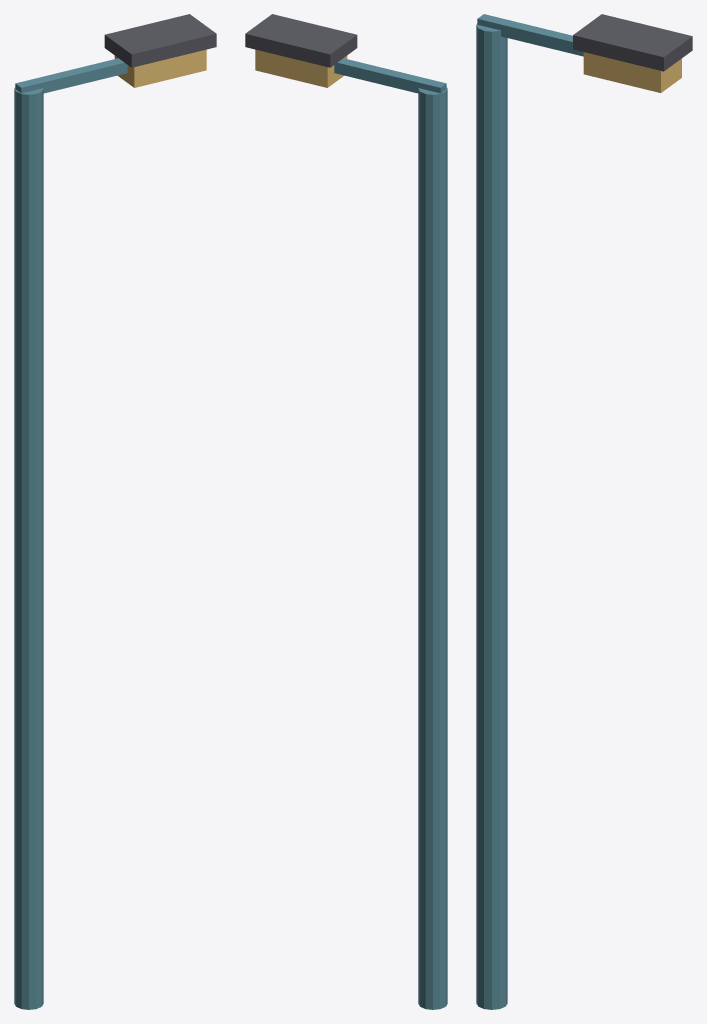
File: mdl_urban_lamppost_modern_001.glb
The picture shows the model from 3 angles, left to right: view 1: azimuth 30°, elevation 25°; view 2: azimuth 150°, elevation 25°; view 3: azimuth 330°, elevation 25°; orthographic projection. The views are drawn at different scales.
Visible parts, largest first — view 1: m_petroleo, m_carbon, m_ambar; view 2: m_petroleo, m_carbon, m_ambar; view 3: m_petroleo, m_carbon, m_ambar.
Part boxes in pixels (x1,y1,x2,y2): m_petroleo: (14,58,127,1009); m_carbon: (104,14,216,67); m_ambar: (114,49,206,87); m_petroleo: (334,58,447,1009); m_carbon: (245,14,357,67); m_ambar: (255,49,347,87); m_petroleo: (476,14,583,1009); m_carbon: (573,14,692,71); m_ambar: (583,52,681,92).
Bounding box in the file's own units: 0.88 × 4.21 × 0.22.
